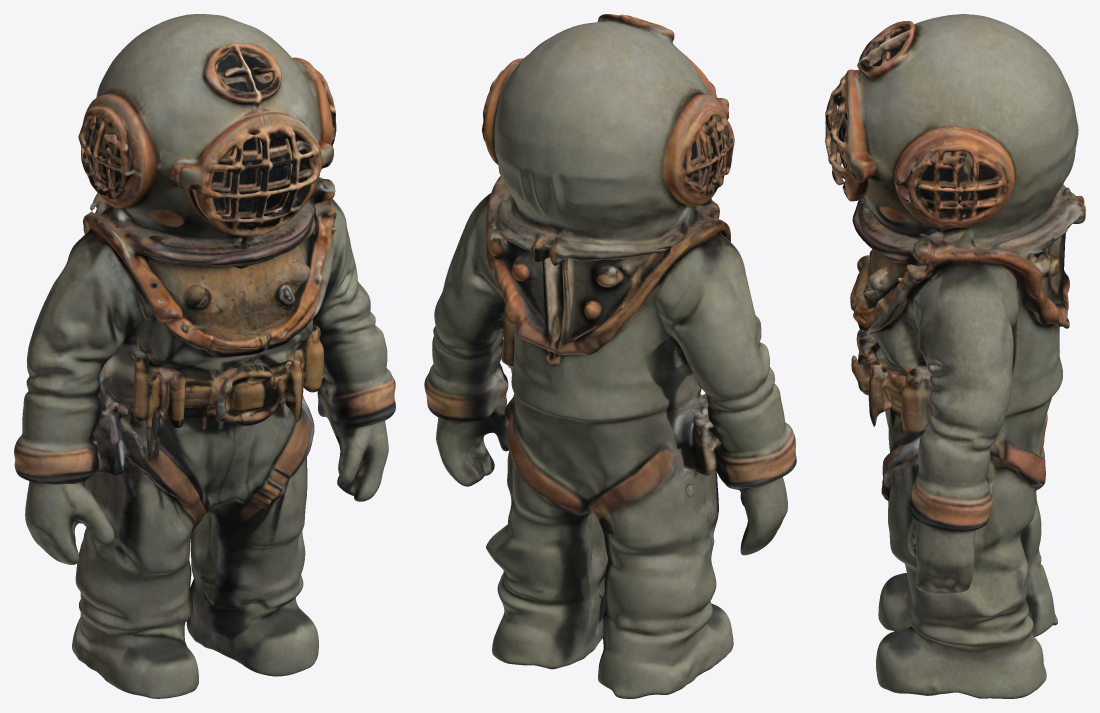
Rendered from Sea explorer.fbx.
The picture shows the model from 3 angles, left to right: view 1: azimuth 30°, elevation 25°; view 2: azimuth 150°, elevation 25°; view 3: azimuth 270°, elevation 25°; orthographic projection. The views are drawn at different scales.
Visible parts, largest first — view 1: Mesh1_Mesh1.092; view 2: Mesh1_Mesh1.092; view 3: Mesh1_Mesh1.092.
Boxes of the visible parts, x1,y1,x2,y2 form: Mesh1_Mesh1.092: (14,14,395,698); Mesh1_Mesh1.092: (424,14,796,698); Mesh1_Mesh1.092: (825,14,1085,698).
Size of the model in its own units: 122 by 200 by 74.42.
Materials: 1 (1 with a texture image).
